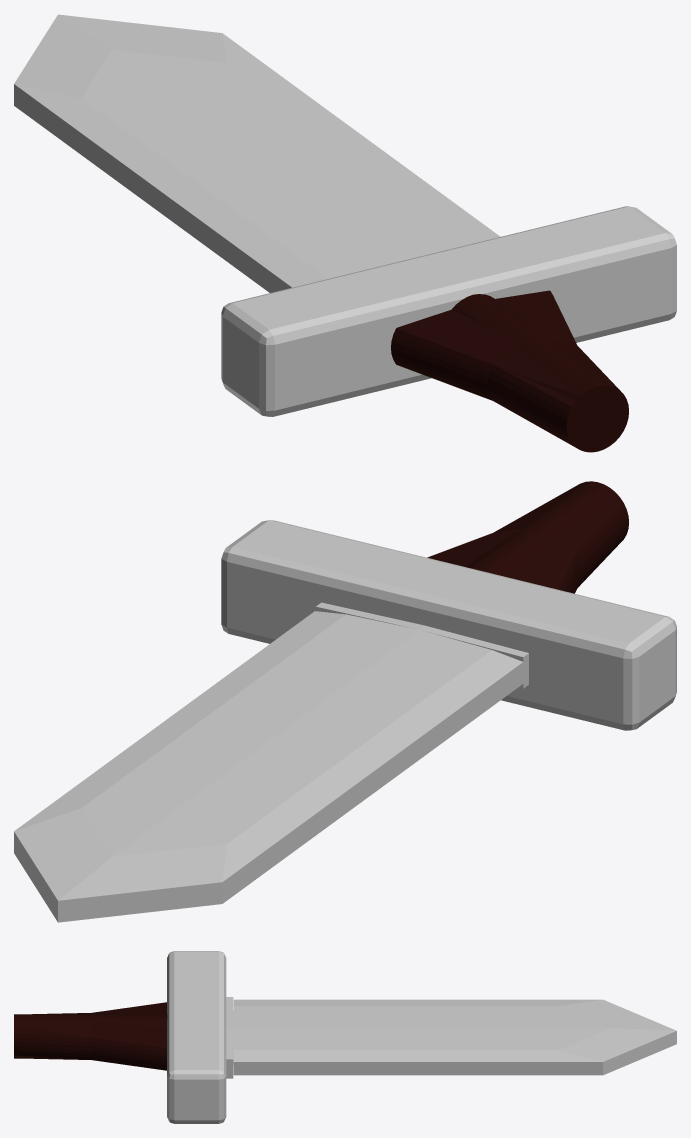
Rendered from shortsword.obj.
3 renders of one model, top to bottom at view 1: azimuth 30°, elevation 25°; view 2: azimuth 150°, elevation 25°; view 3: azimuth 270°, elevation 25°, orthographic. The views are drawn at different scales.
Parts seen in each view (by area): view 1: Cube, Cube.001, Cylinder; view 2: Cube, Cube.001, Cylinder; view 3: Cube, Cube.001, Cylinder.
Part boxes in pixels (left/top/right/bottom): Cube: left=14, top=14, right=500, bottom=292; Cube.001: left=221, top=206, right=676, bottom=416; Cylinder: left=391, top=290, right=628, bottom=452; Cube: left=14, top=602, right=528, bottom=922; Cube.001: left=221, top=520, right=676, bottom=730; Cylinder: left=427, top=481, right=628, bottom=593; Cube: left=226, top=997, right=676, bottom=1078; Cube.001: left=167, top=951, right=226, bottom=1123; Cylinder: left=14, top=1002, right=167, bottom=1070.
Bounding box in the file's own units: 4 × 0.8 × 8.97.
